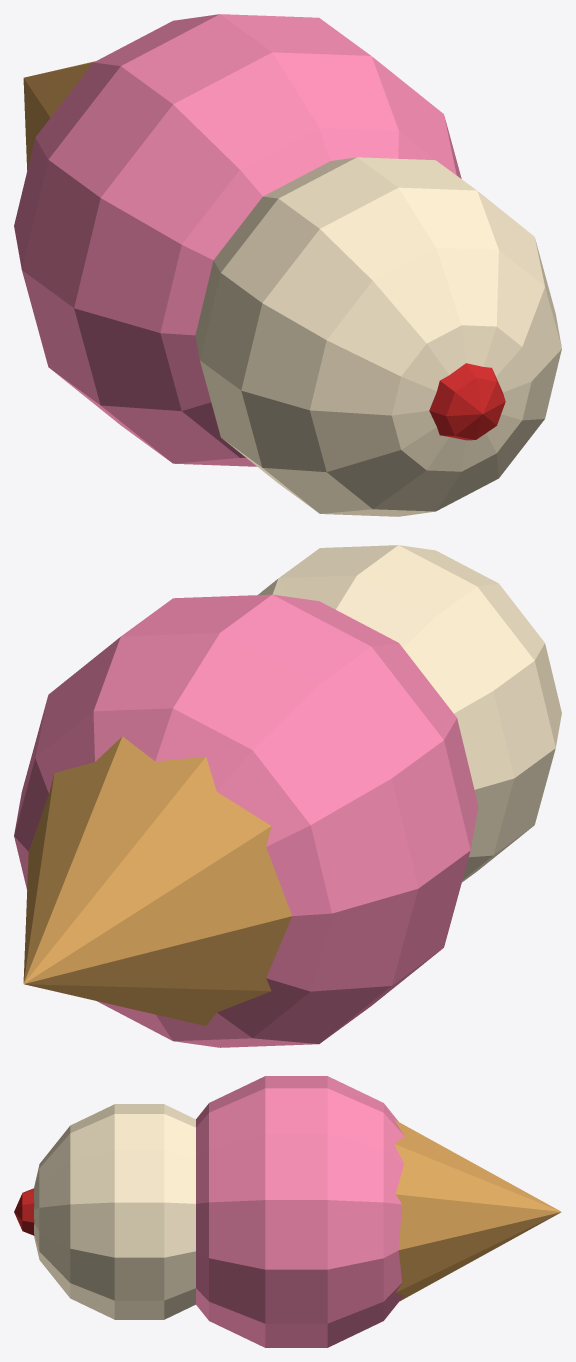
The model's file is icecream.obj.
The picture shows the model from 3 angles, top to bottom: view 1: azimuth 30°, elevation 25°; view 2: azimuth 150°, elevation 25°; view 3: azimuth 270°, elevation 25°; orthographic projection. The views are drawn at different scales.
Parts seen in each view (by area): view 1: icecream; view 2: icecream; view 3: icecream.
Part boxes in pixels (x1,y1,x2,y2): icecream: (14,14,561,516); icecream: (14,545,561,1047); icecream: (14,1076,561,1347).
Size of the model in its own units: 4.98 by 4.98 by 10.
